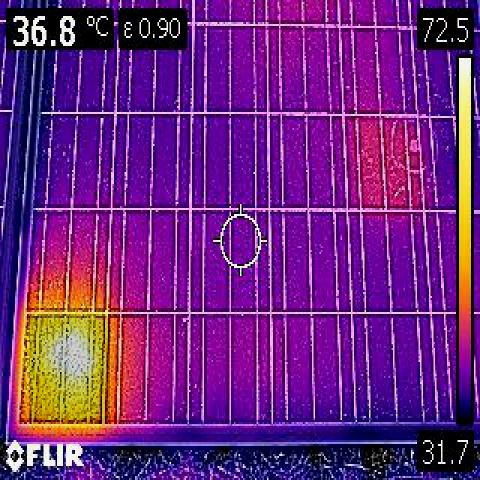fault: (29, 318, 110, 424)
